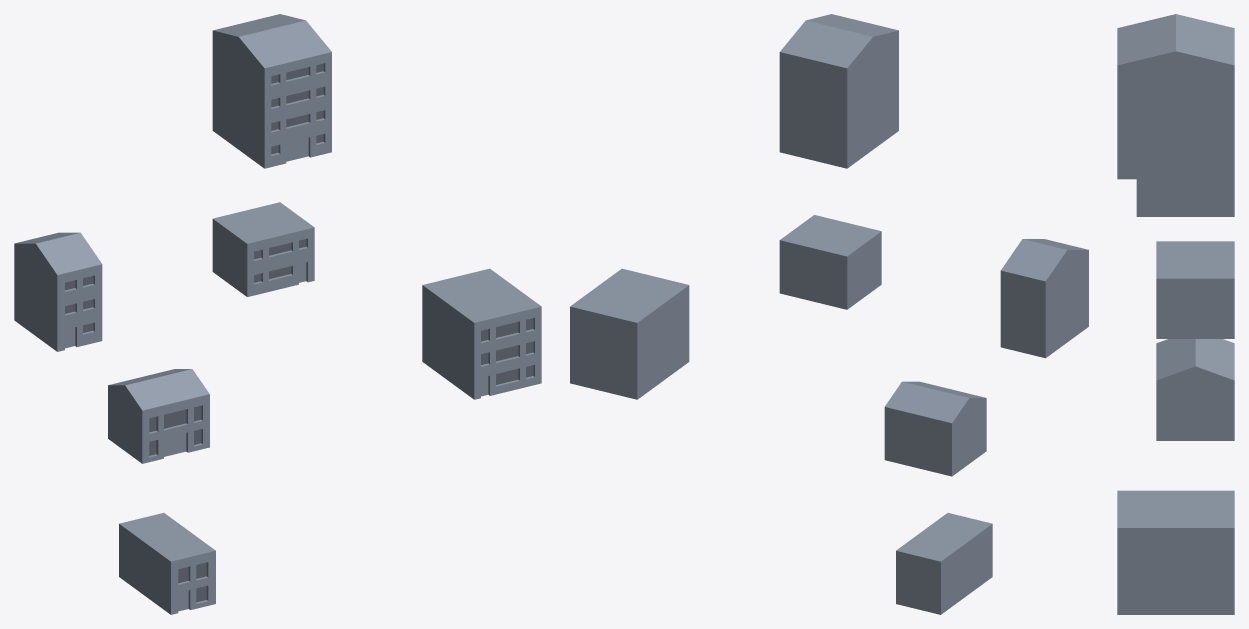
Rendered from BinaGrup6.gltf.
The picture shows the model from 3 angles, left to right: view 1: azimuth 30°, elevation 25°; view 2: azimuth 150°, elevation 25°; view 3: azimuth 270°, elevation 25°; orthographic projection. The views are drawn at different scales.
Parts seen in each view (by area): view 1: Building_049.011, Building_065.011, Building_036.011, Building_050.011, Building_045.011, Building_044.011, Building_065.012, Building_049.012, Building_044.012; view 2: Building_049.011, Building_065.011, Building_036.011, Building_044.011, Building_050.011, Building_045.011; view 3: Building_049.011, Building_065.011, Building_044.011, Building_050.011, Building_036.011.
Part boxes in pixels (<box>): Building_049.011: <box>212,14,331,168</box>; Building_065.011: <box>422,268,541,399</box>; Building_036.011: <box>14,232,102,351</box>; Building_050.011: <box>212,202,314,296</box>; Building_045.011: <box>119,513,215,614</box>; Building_044.011: <box>108,369,209,463</box>; Building_065.012: <box>481,318,533,384</box>; Building_049.012: <box>271,63,323,154</box>; Building_044.012: <box>149,406,201,455</box>; Building_049.011: <box>779,14,898,168</box>; Building_065.011: <box>570,268,689,399</box>; Building_036.011: <box>1000,239,1088,358</box>; Building_044.011: <box>884,381,986,476</box>; Building_050.011: <box>779,215,881,309</box>; Building_045.011: <box>896,513,992,614</box>; Building_049.011: <box>1117,14,1234,179</box>; Building_065.011: <box>1117,490,1234,614</box>; Building_044.011: <box>1156,339,1234,440</box>; Building_050.011: <box>1156,241,1234,338</box>; Building_036.011: <box>1136,179,1234,216</box>.
Size of the model in its own units: 0.3451 by 0.3717 by 0.0652.
